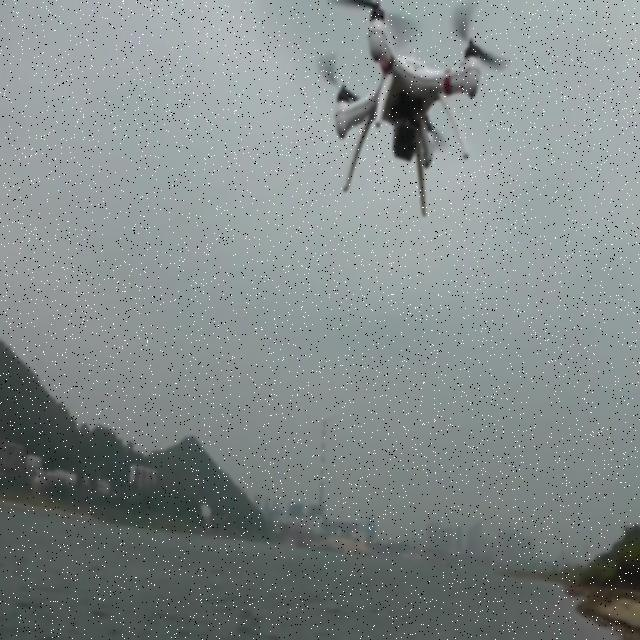UAV: (317, 0, 511, 218)
